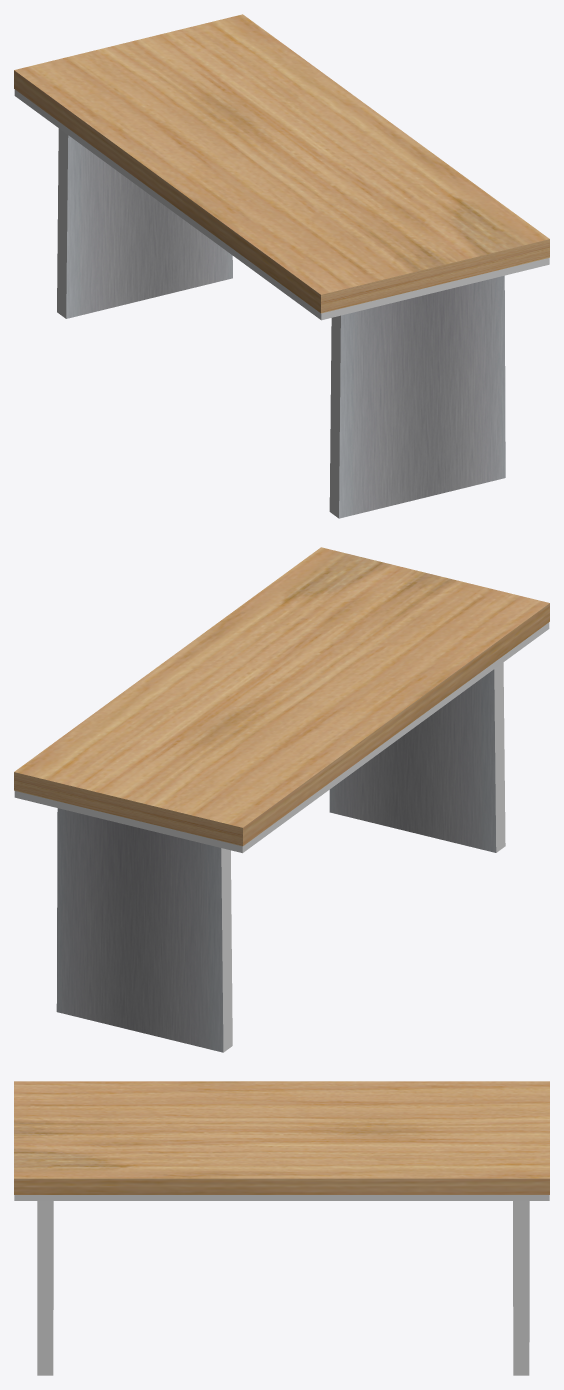
The model's file is wtable_solo.fbx.
3 views of the same model, one above another, from view 1: azimuth 30°, elevation 25°; view 2: azimuth 150°, elevation 25°; view 3: azimuth 270°, elevation 25° (orthographic). The views are drawn at different scales.
Parts seen in each view (by area): view 1: polySurface110; view 2: polySurface110; view 3: polySurface110.
Boxes of the visible parts, x1=… form: polySurface110: x1=14, y1=14, x2=549, y2=518; polySurface110: x1=14, y1=547, x2=549, y2=1052; polySurface110: x1=14, y1=1081, x2=549, y2=1375.
Bounding box in the file's own units: 98.24 × 98.88 × 228.
